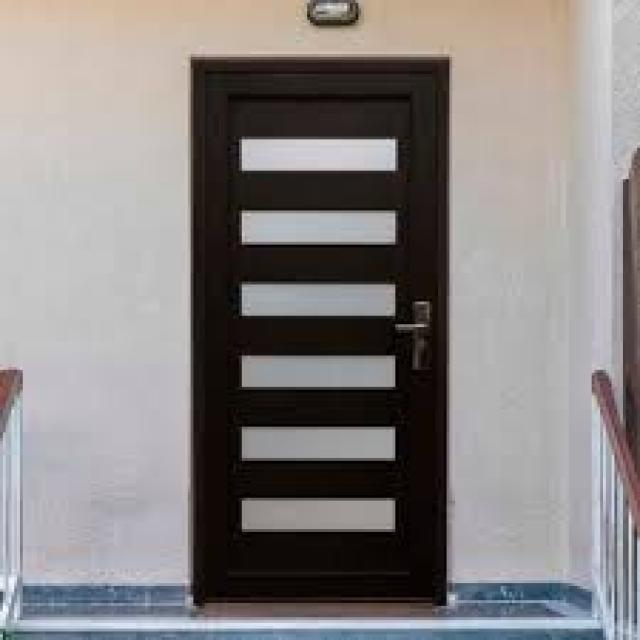door: (190, 55, 450, 608)
